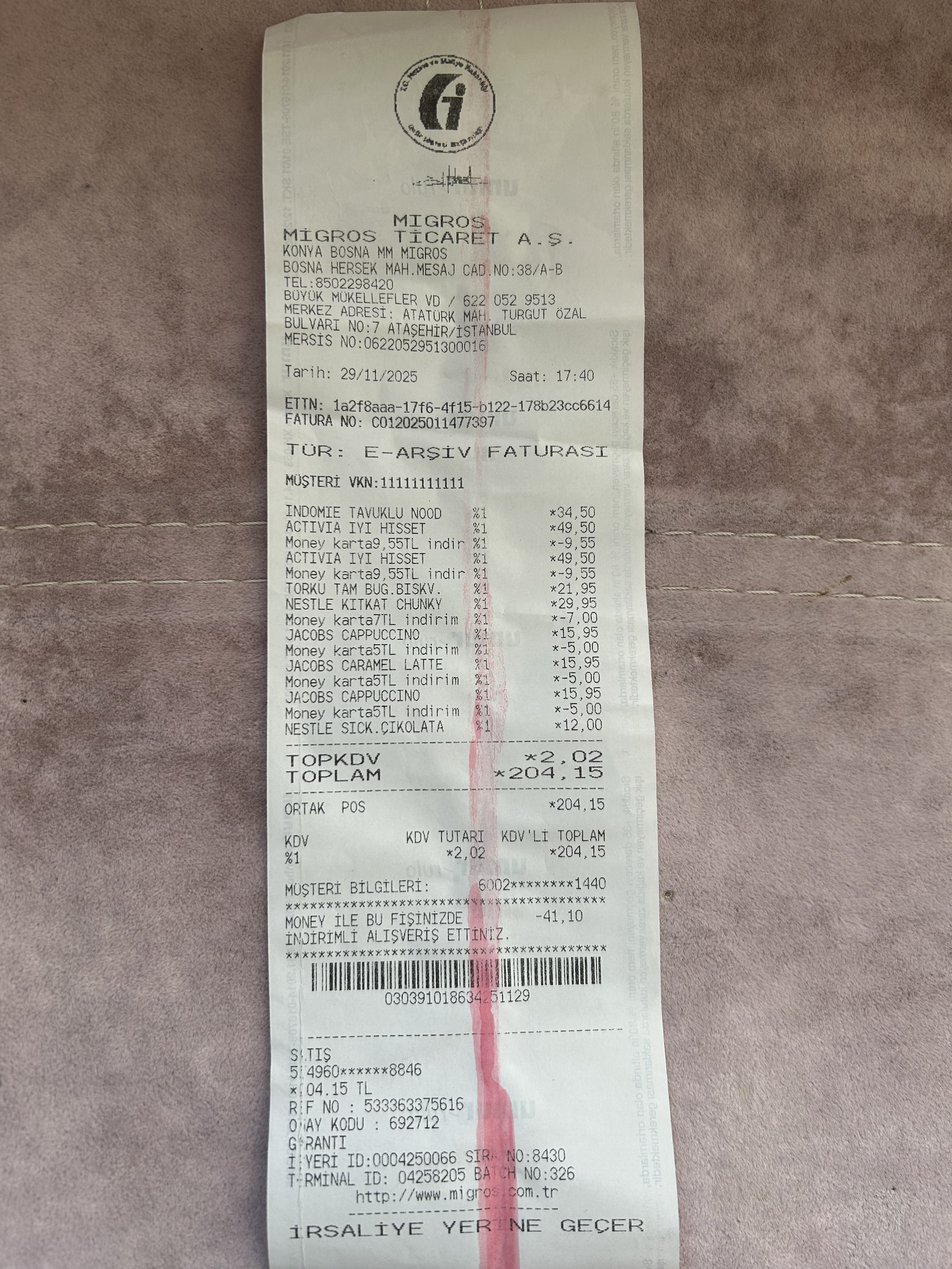date: (505, 763, 607, 785)
price: (336, 362, 431, 389)
workplace: (279, 208, 580, 280)
